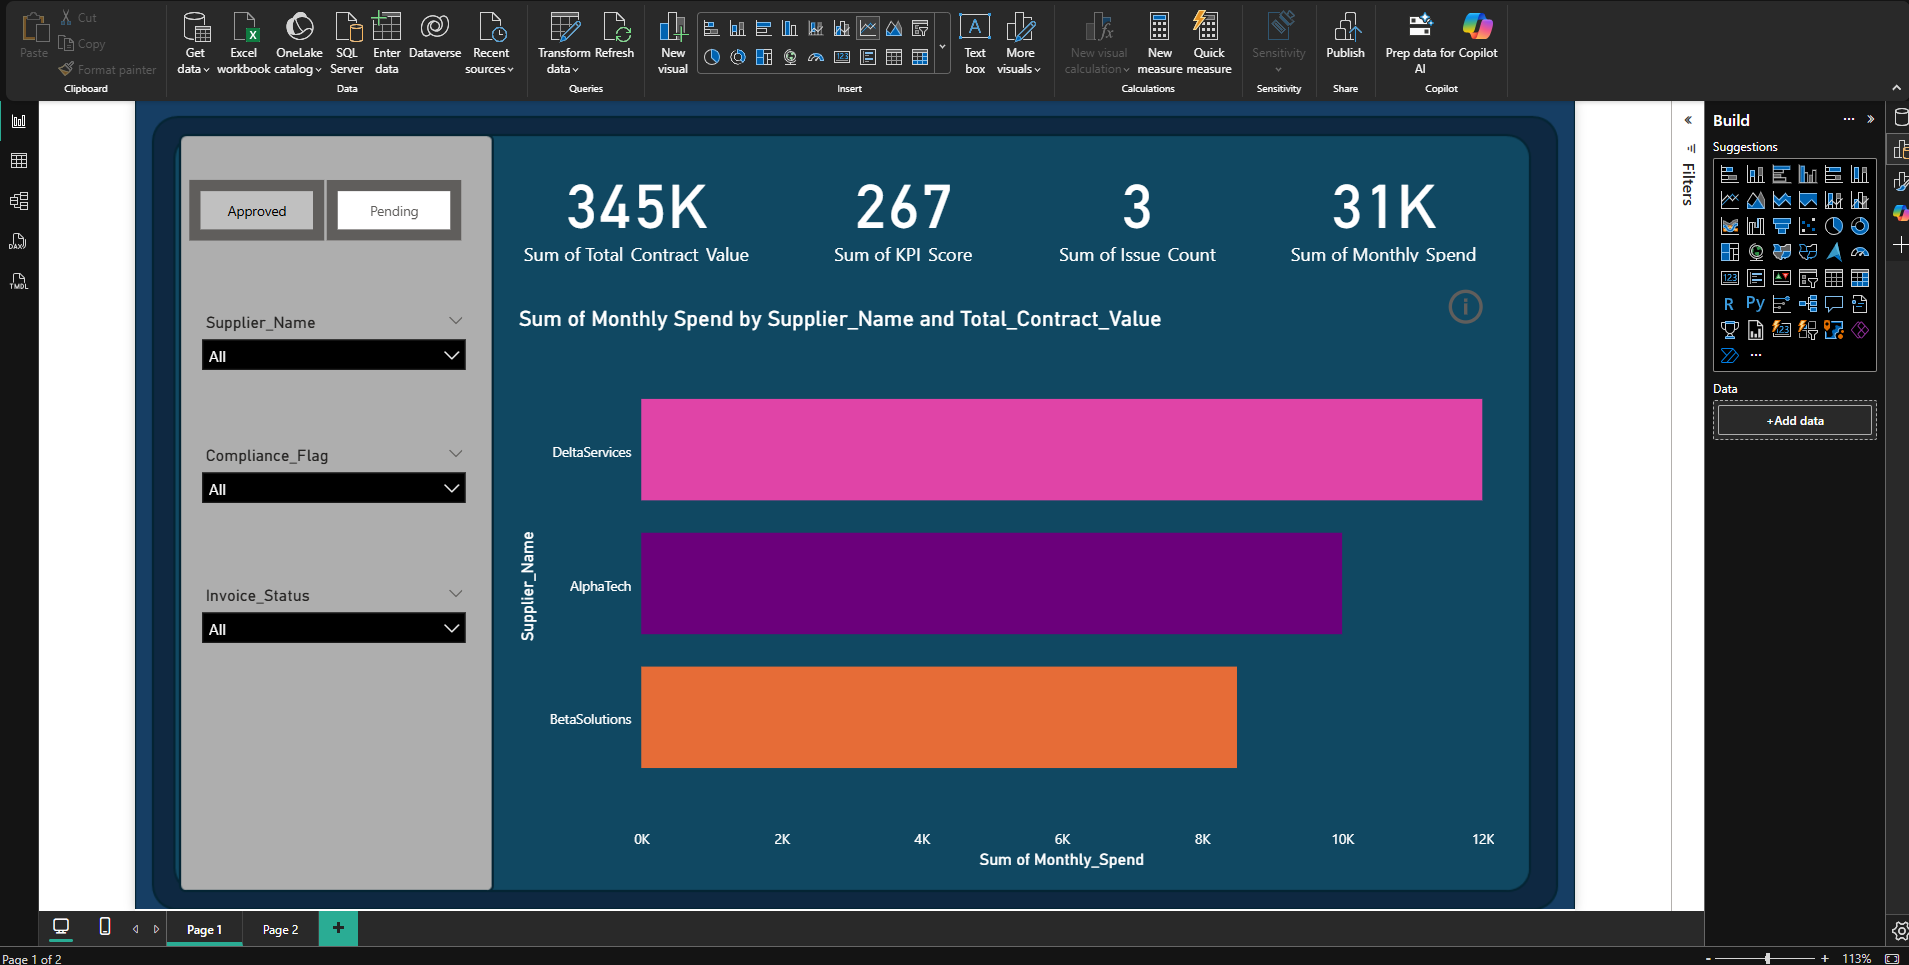

What the dashboard file says about the page in this screenshot:
{"tool":"powerbi","page":{"name":"Page 1","canvas":[1280,720],"ordinal":0},"visuals":[{"type":"barChart","title":"Sum of Monthly Spend by Supplier_Name and Total_Contract_Value","fields":{"Category":["Debt_programme_Supplier_data.Supplier_Name"],"Y":["Sum(Debt_programme_Supplier_data.Monthly_Spend)"],"Series":["Debt_programme_Supplier_data.Total_Contract_Value"]},"box":[335.8,182.4,876.6,505.3],"z":0},{"type":"slicer","fields":{"Values":["Debt_programme_Supplier_data.Supplier_Name"]},"box":[50.1,183.7,254.4,69.5],"z":1000},{"type":"slicer","fields":{"Values":["Debt_programme_Supplier_data.Compliance_Flag"]},"box":[50.1,302.3,254.4,82.2],"z":2000},{"type":"slicer","title":"PO Order","fields":{"Values":["Debt_programme_Supplier_data.PO_Status"]},"box":[22.2,63.5,292.3,67.5],"z":3000},{"type":"card","fields":{"Values":["Sum(Debt_programme_Supplier_data.Issue_Count)"]},"box":[774.3,47.4,233.9,101.1],"z":4000},{"type":"card","fields":{"Values":["Sum(Debt_programme_Supplier_data.KPI_Score)"]},"box":[556.2,47.4,252.8,101.1],"z":5000},{"type":"card","fields":{"Values":["Sum(Debt_programme_Supplier_data.Monthly_Spend)"]},"box":[1008.2,47.4,203.9,101.1],"z":6000},{"type":"card","fields":{"Values":["Sum(Debt_programme_Supplier_data.Total_Contract_Value)"]},"box":[335,47.4,221.2,101.1],"z":7000},{"type":"slicer","fields":{"Values":["Debt_programme_Supplier_data.Invoice_Status"]},"box":[50.1,427.1,254.4,74.3],"z":8000},{"type":"actionButton","box":[1162.3,163,100.1,40.4],"z":9000}]}

Visuals, with their boxes in screenshot pixels (x1, y1, x2, y2):
"Sum of Monthly Spend by Supplier_Name and Total_Contract_Value" barChart: [543, 231, 1701, 899]
slicer - Debt_programme_Supplier_data.Supplier_Name: [166, 233, 502, 325]
slicer - Debt_programme_Supplier_data.Compliance_Flag: [166, 389, 502, 498]
"PO Order" slicer: [129, 74, 515, 163]
card - Sum(Debt_programme_Supplier_data.Issue_Count): [1122, 53, 1431, 186]
card - Sum(Debt_programme_Supplier_data.KPI_Score): [834, 53, 1168, 186]
card - Sum(Debt_programme_Supplier_data.Monthly_Spend): [1431, 53, 1701, 186]
card - Sum(Debt_programme_Supplier_data.Total_Contract_Value): [542, 53, 834, 186]
slicer - Debt_programme_Supplier_data.Invoice_Status: [166, 554, 502, 652]
actionButton: [1635, 205, 1767, 259]
